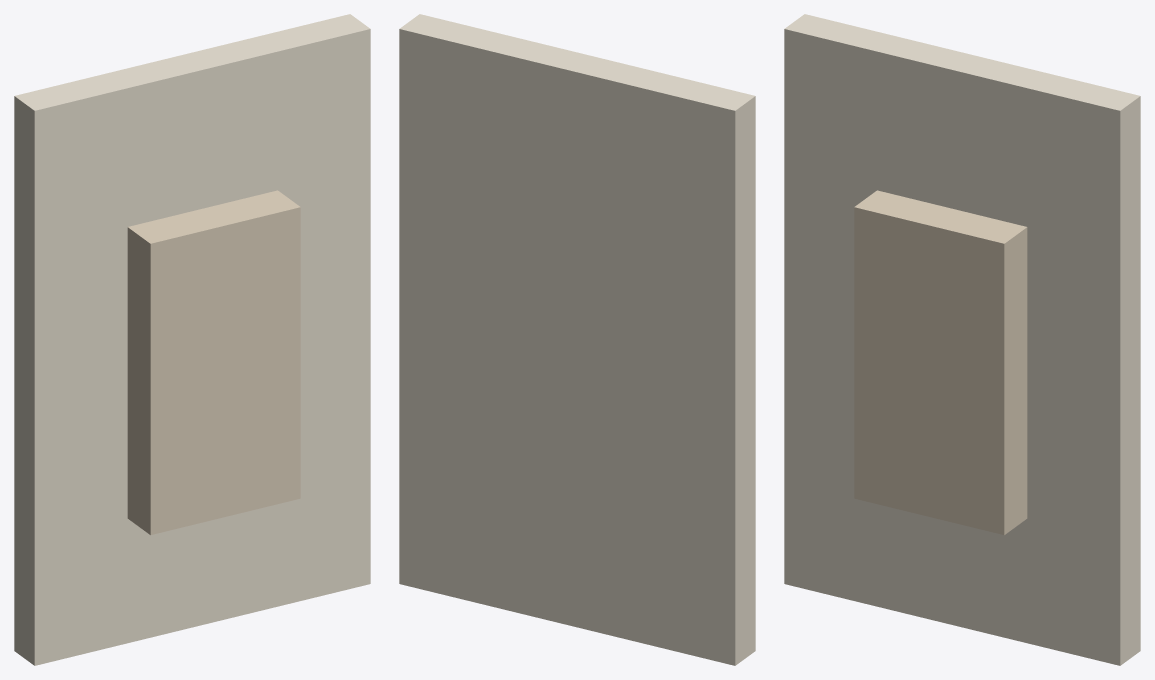
File: light_switch.glb
3 renders of one model, left to right at view 1: azimuth 30°, elevation 25°; view 2: azimuth 150°, elevation 25°; view 3: azimuth 330°, elevation 25°, orthographic.
Visible parts, largest first — view 1: Face plate.001, Rocker; view 2: Face plate.001; view 3: Face plate.001, Rocker.
Part boxes in pixels (bbox=[...]): Face plate.001: bbox=[14, 14, 370, 665]; Rocker: bbox=[127, 190, 300, 535]; Face plate.001: bbox=[399, 14, 755, 665]; Face plate.001: bbox=[784, 14, 1140, 665]; Rocker: bbox=[854, 190, 1027, 535].
Bounding box in the file's own units: 0.076 × 0.12 × 0.017.
